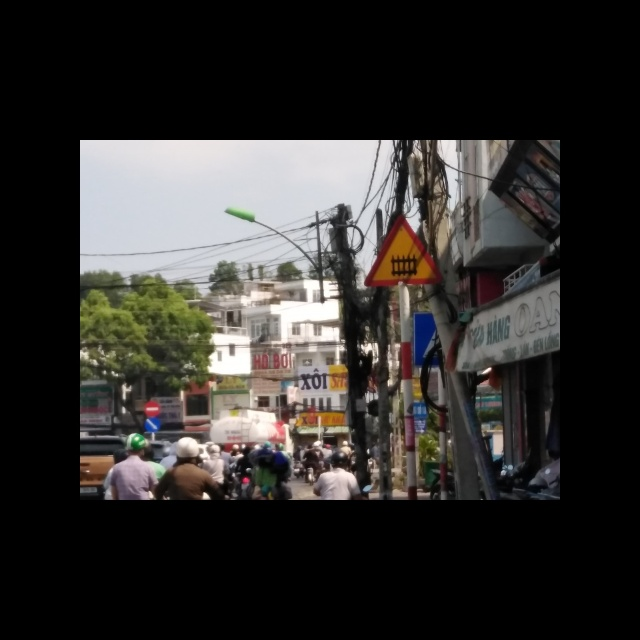Giao nhau với đường sắt có rào chắn: (362, 213, 442, 289)
